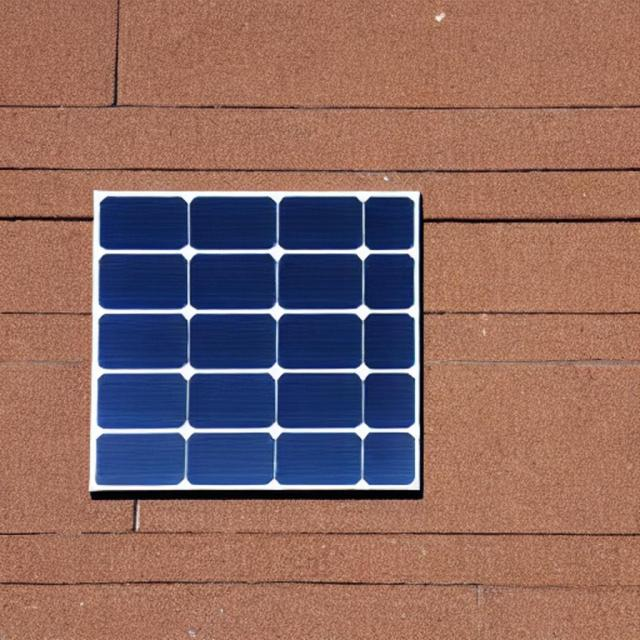no faulty: (97, 195, 417, 488)
